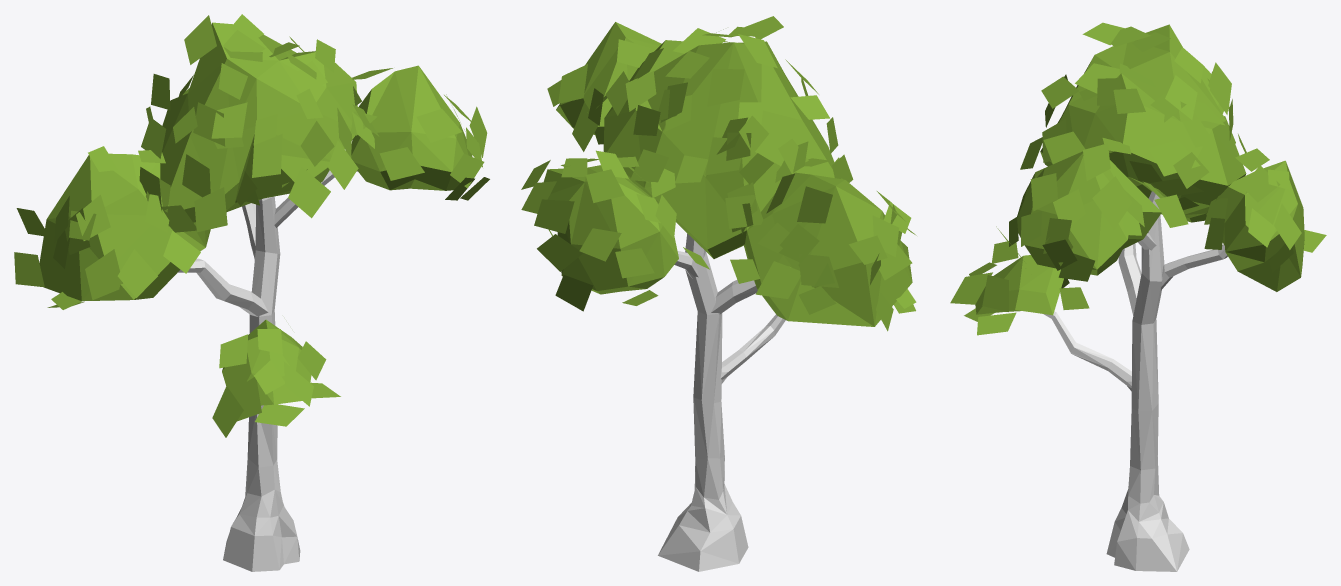
File: tree-oak-young-a.gltf
3 views of the same model, side by side, from view 1: azimuth 30°, elevation 25°; view 2: azimuth 150°, elevation 25°; view 3: azimuth 270°, elevation 25° (orthographic). The views are drawn at different scales.
Visible parts, largest first — view 1: tree-oak-young-a; view 2: tree-oak-young-a; view 3: tree-oak-young-a.
Part boxes in pixels (x1=…): tree-oak-young-a: x1=14, y1=14, x2=489, y2=571; tree-oak-young-a: x1=521, y1=16, x2=916, y2=571; tree-oak-young-a: x1=950, y1=22, x2=1326, y2=571.
Bounding box in the file's own units: 0.0415 × 0.0534 × 0.0349.
